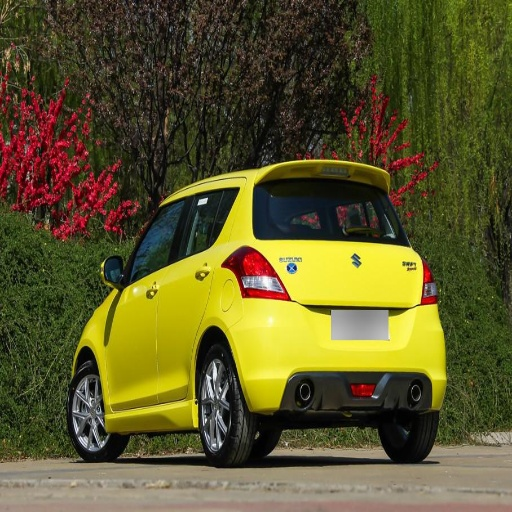back_bumper: (235, 300, 446, 411)
back_glass: (255, 179, 400, 243)
back_left_door: (160, 192, 217, 400)
tailgate: (268, 241, 417, 336)
trunk: (279, 249, 423, 352)
